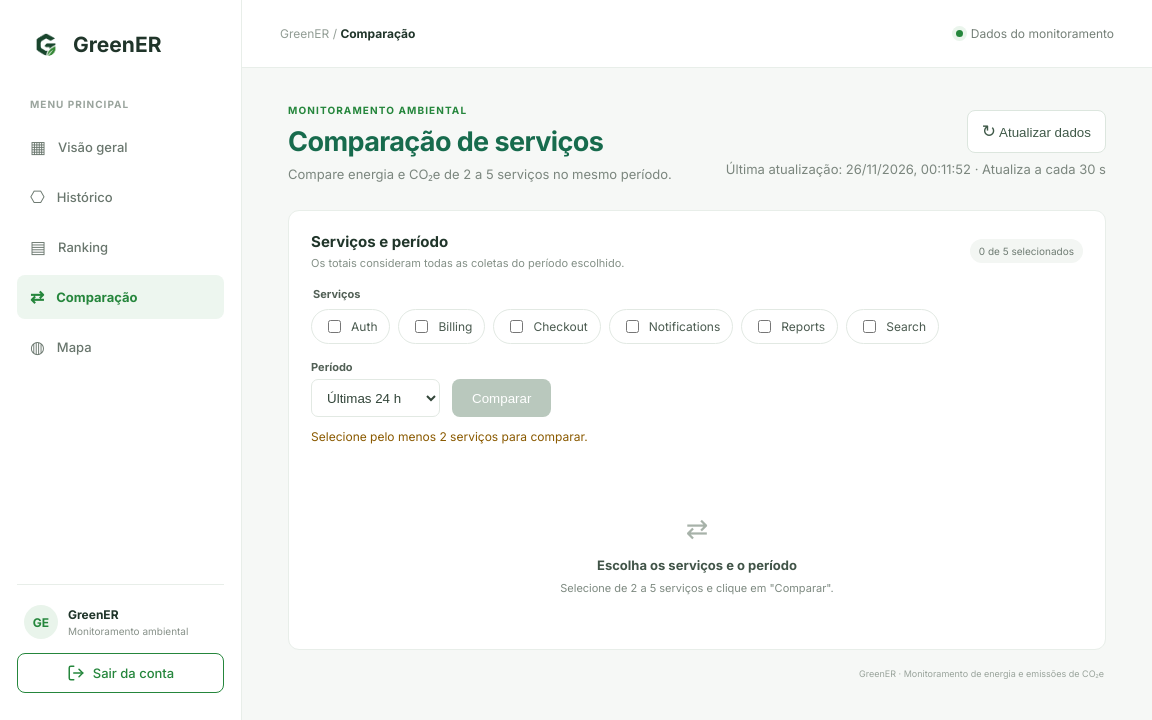
Test: botão fica desabilitado com menos de 2 serviços e explica o motivo
This screenshot has width=1152, height=720.
Click the checkbox labelled "Auth" at (335, 326), box [328, 320, 341, 333]
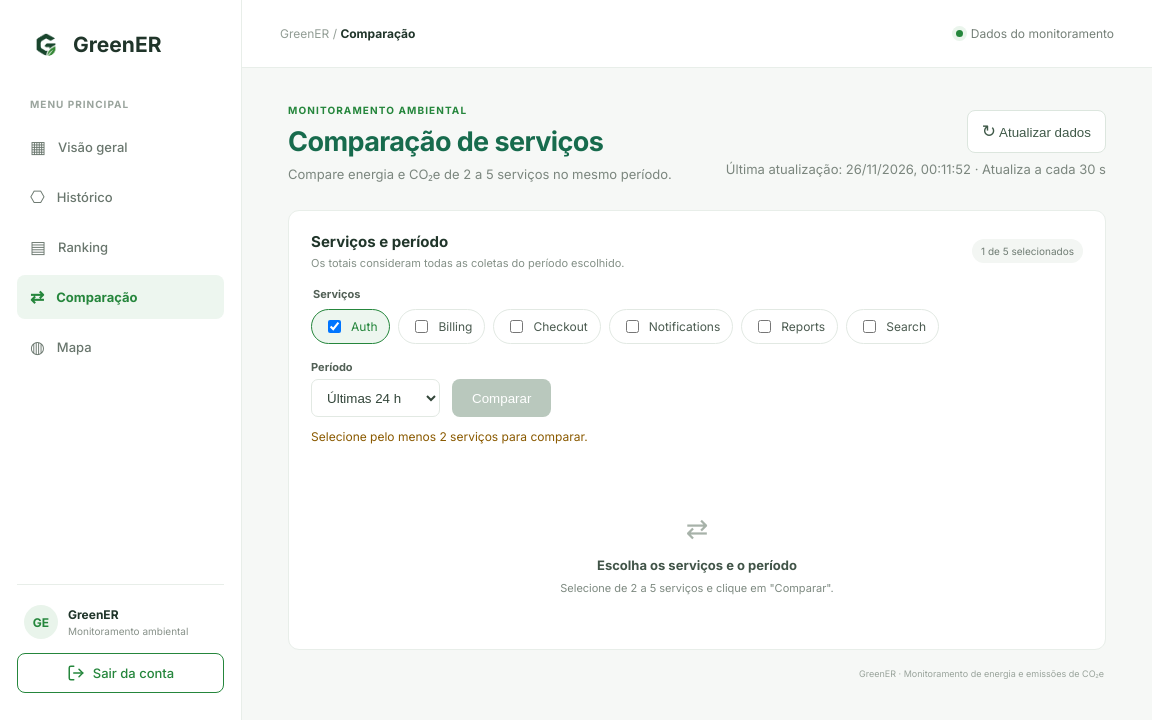
Expected: the button "Comparar" is disabled, [452, 379, 551, 417]
Expected: the text "Selecione pelo menos 2 serviços para comparar." is shown, [311, 429, 588, 444]
Click the checkbox labelled "Billing" at (422, 326), box [416, 320, 428, 333]
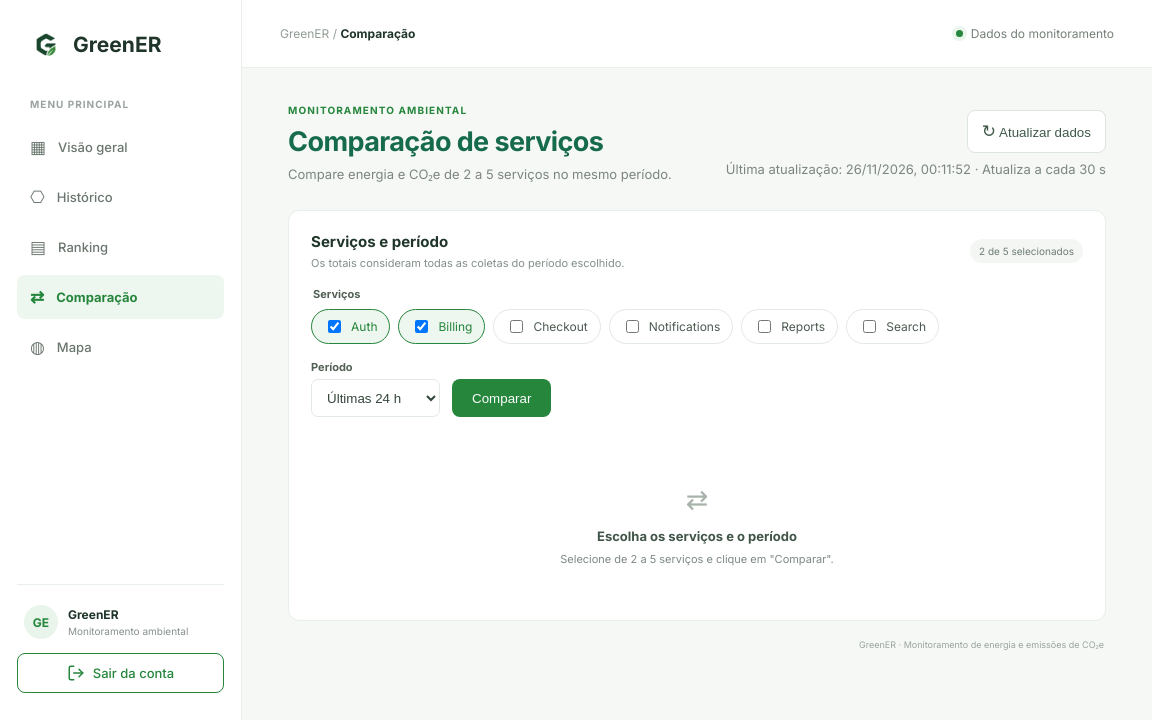
Expected: the button "Comparar" is enabled, [452, 379, 551, 417]
